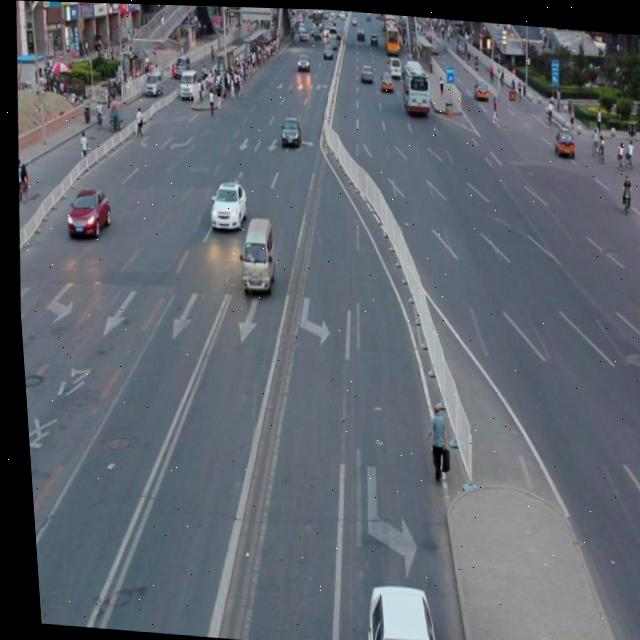car: (354, 574, 433, 640), (62, 186, 110, 238), (205, 178, 246, 230)
truck: (235, 214, 275, 292)
